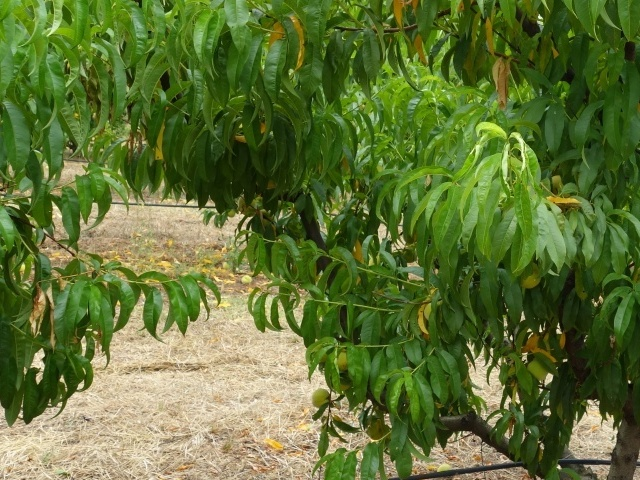peach: (523, 356, 550, 385), (519, 263, 541, 292), (308, 387, 332, 411)
